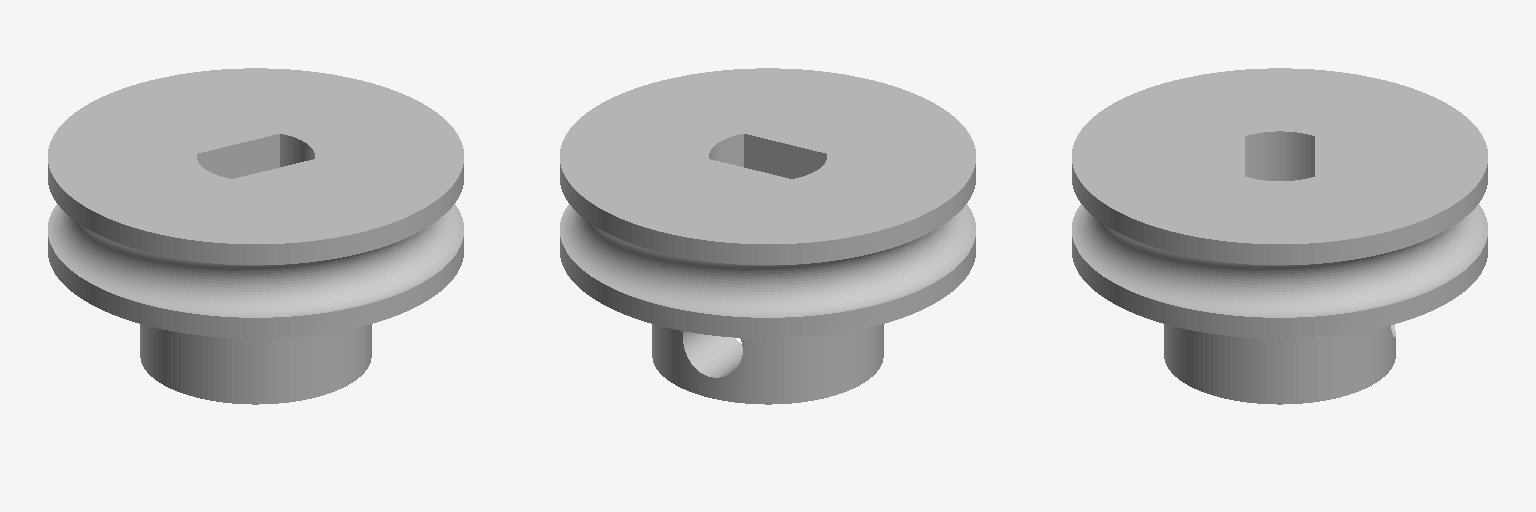
File: oringSupport.obj
3 views of the same model, side by side, from view 1: azimuth 30°, elevation 25°; view 2: azimuth 150°, elevation 25°; view 3: azimuth 270°, elevation 25° (orthographic).
Visible parts, largest first — view 1: Oring_support_v4; view 2: Oring_support_v4; view 3: Oring_support_v4.
Boxes of the visible parts, x1=… form: Oring_support_v4: x1=48, y1=68, x2=463, y2=404; Oring_support_v4: x1=560, y1=68, x2=975, y2=404; Oring_support_v4: x1=1072, y1=68, x2=1487, y2=404.
Size of the model in its own units: 0.18 by 0.095 by 0.18.